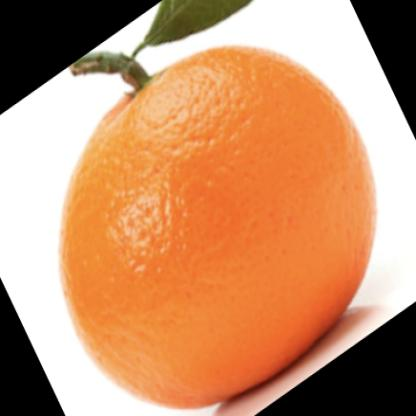fresh: (63, 48, 374, 406)
